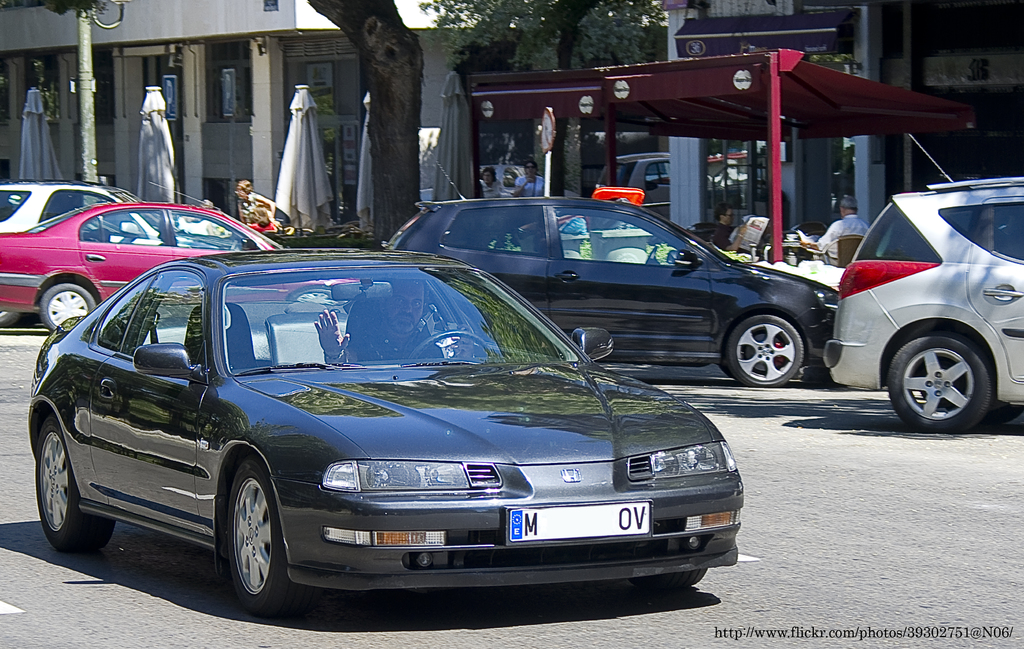Car: (26, 242, 739, 606), (386, 157, 835, 382), (823, 132, 1023, 433), (0, 177, 295, 326), (0, 177, 140, 231)
